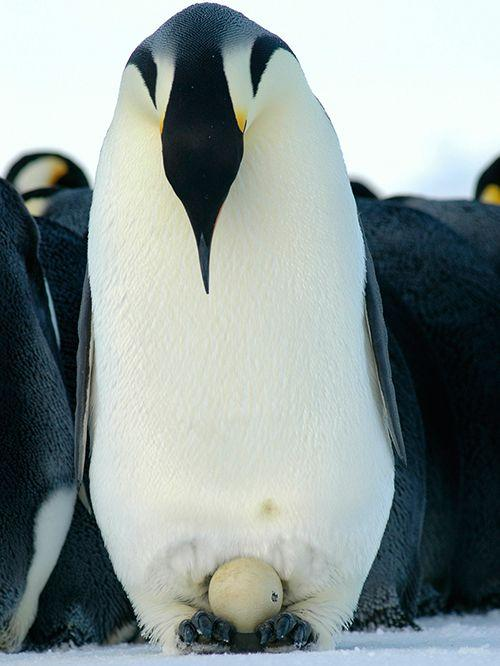emporer: (58, 0, 430, 662)
